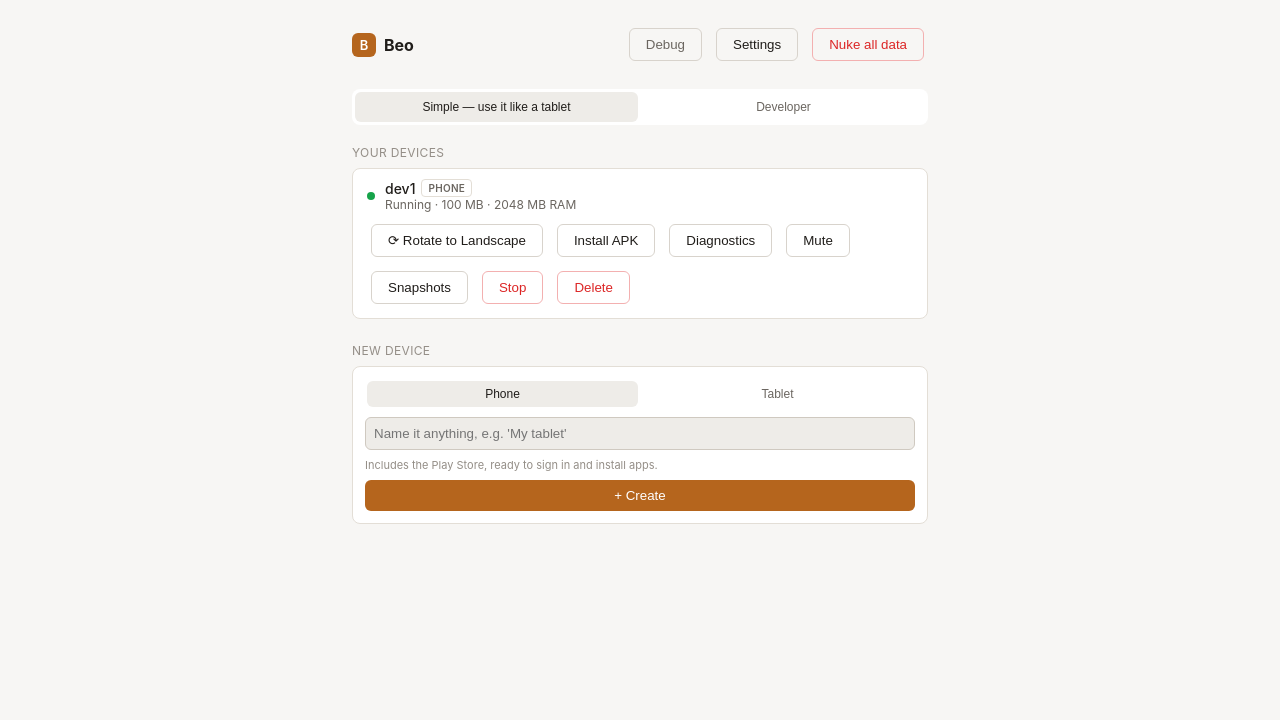
Scenario: App — destructive actions use an in-app confirm dialog, not window.confirm › actually deletes the device once Confirm is clicked
Click the button "Delete": (594, 288) [557,271,630,304]
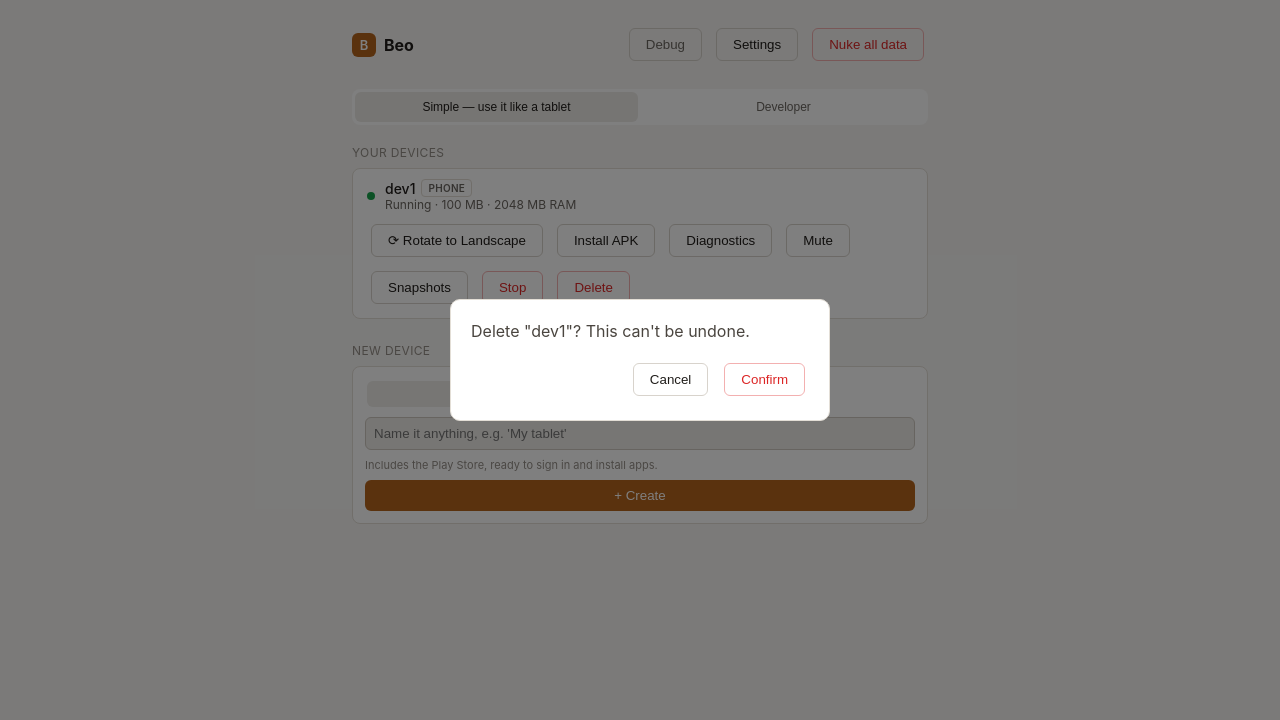
Now the text "Delete \"dev1\"? This can't be undone." is shown, box [471,321,750,341]
Click the button "Confirm": (765, 379) [724,363,805,396]
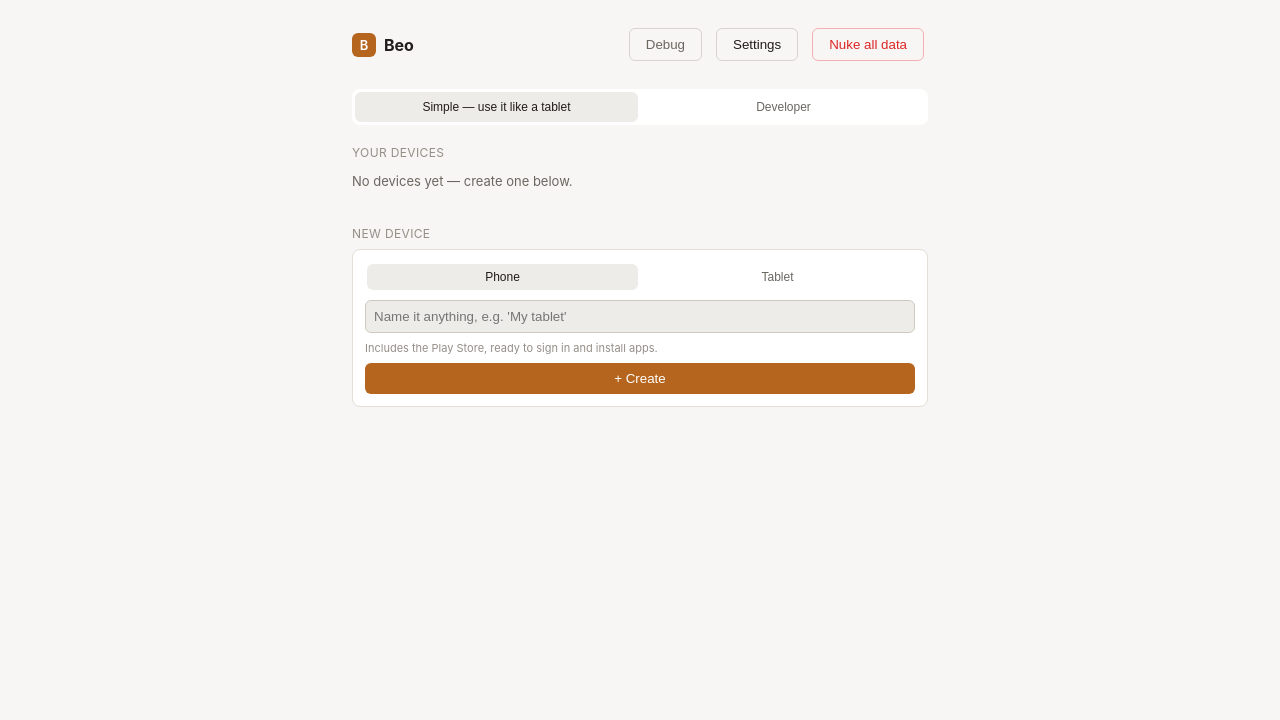
Now the text "dev1" is gone
